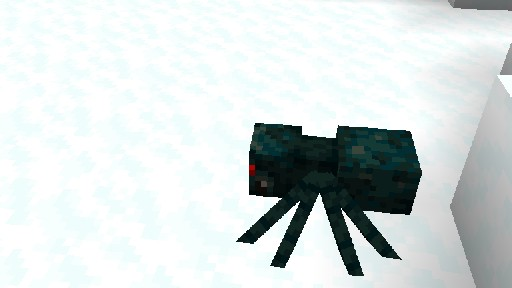cave_spider: (233, 122, 422, 288)
